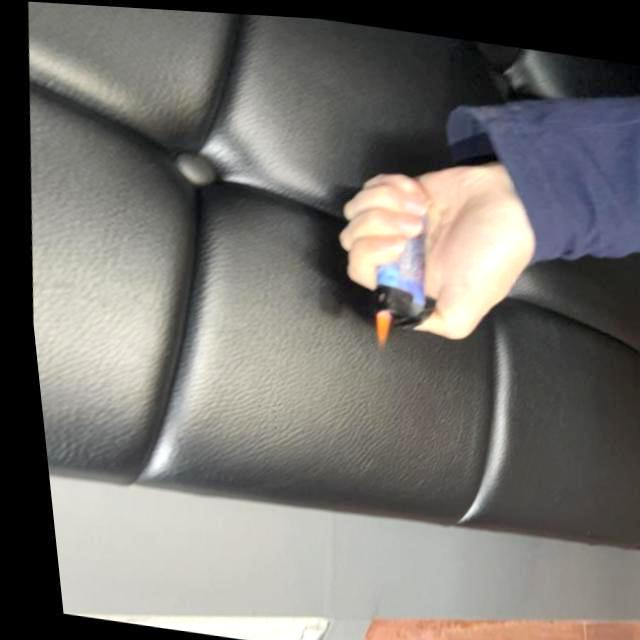fire: (366, 304, 388, 346)
